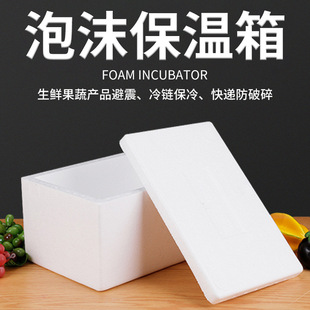泡沫箱: (22, 122, 303, 303)
